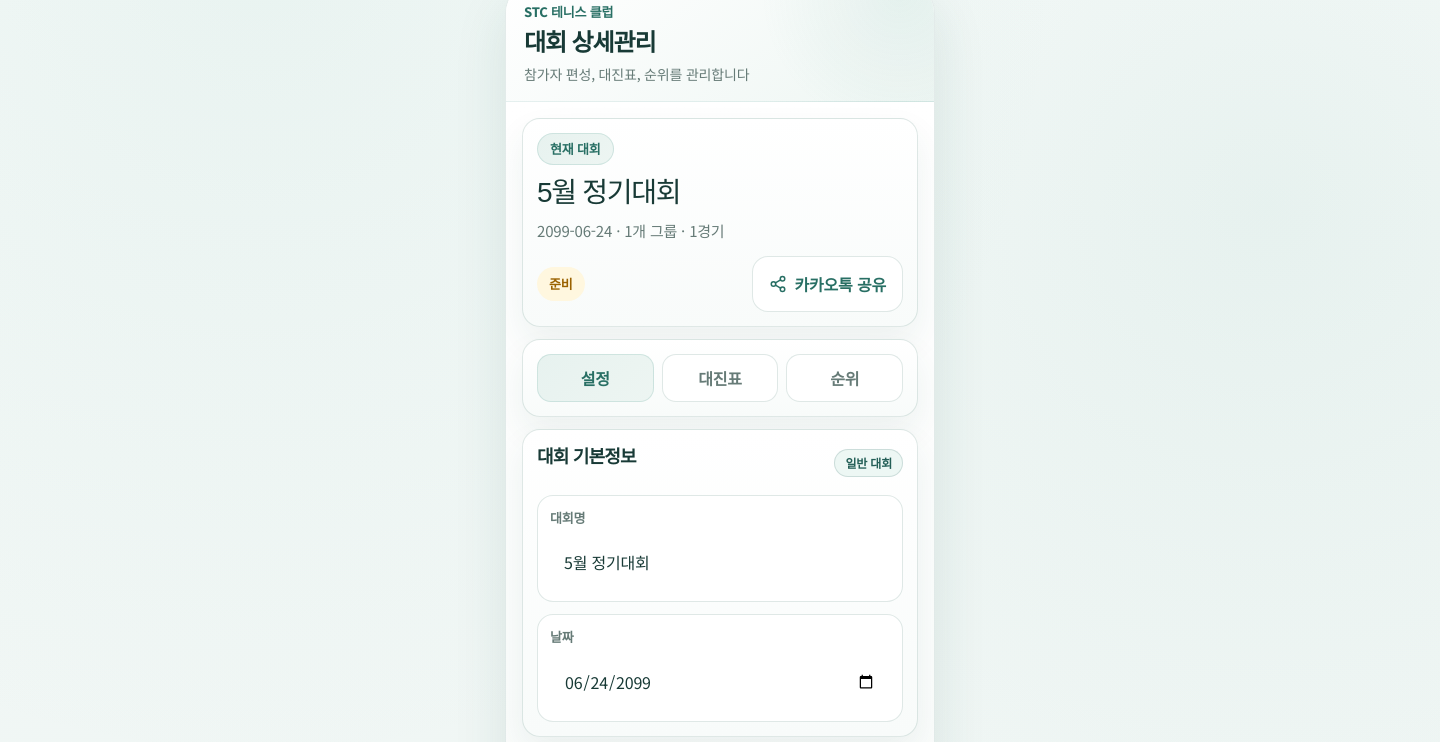
Scenario: TournamentManageClient save timing › saves a completed match only after the input complete button is pressed
This screenshot has width=1440, height=742.
Click the button "대진표".
click(720, 378)  # box [662,354,778,402]
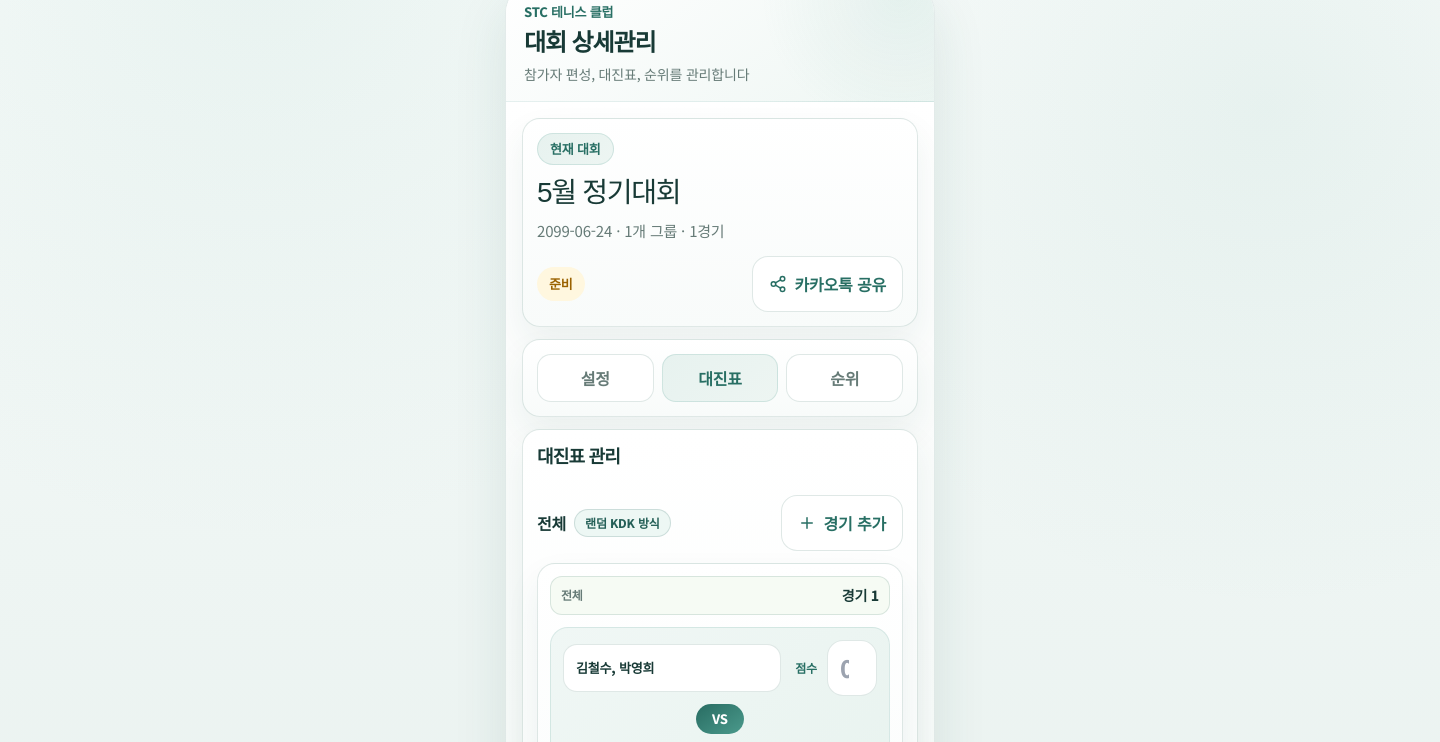
Type "6" into the number field named "위쪽 팀 점수".
click(852, 668); type("6")  # box [827,640,877,696]
(page scrolled)
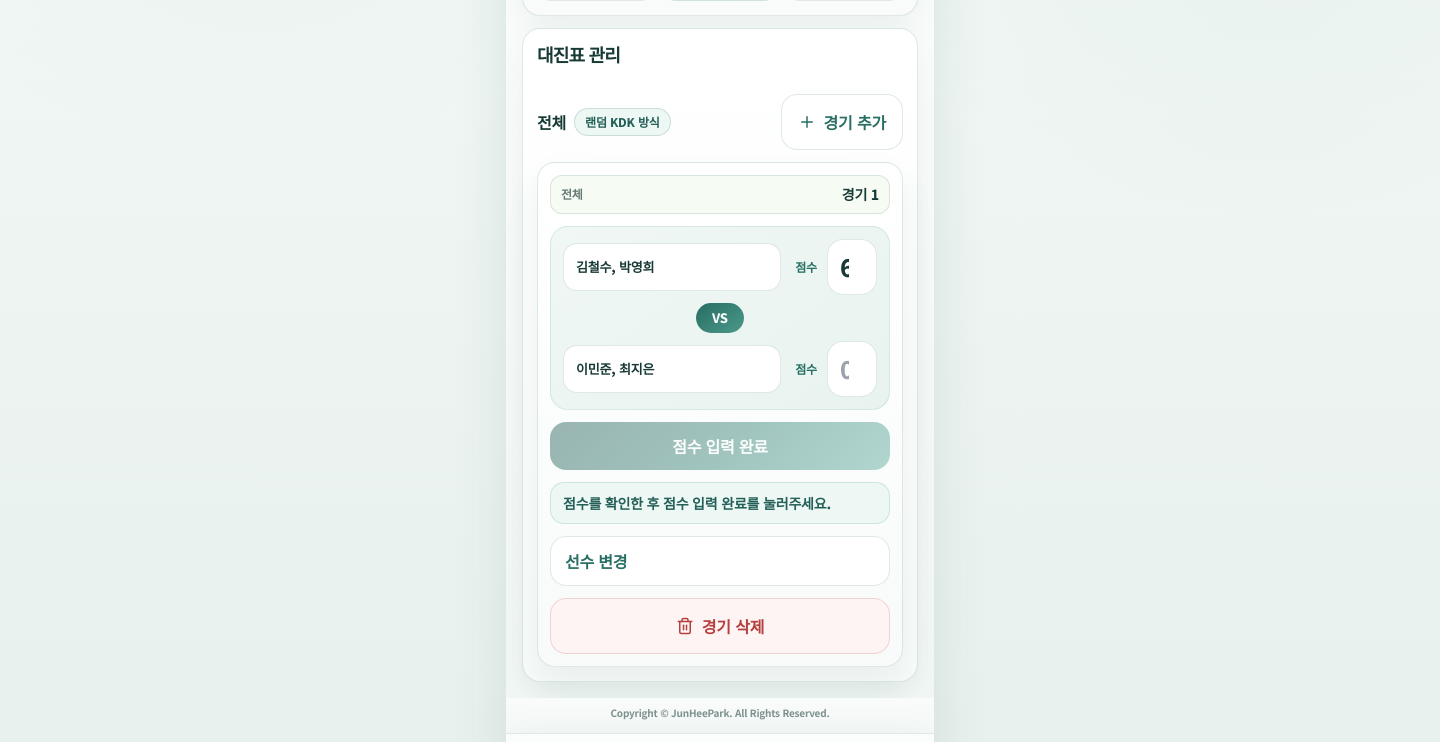
Now the button "점수 입력 완료" is disabled, box [550,422,890,470]
Type "3" into the number field named "아래쪽 팀 점수".
click(852, 369); type("3")  # box [827,341,877,397]
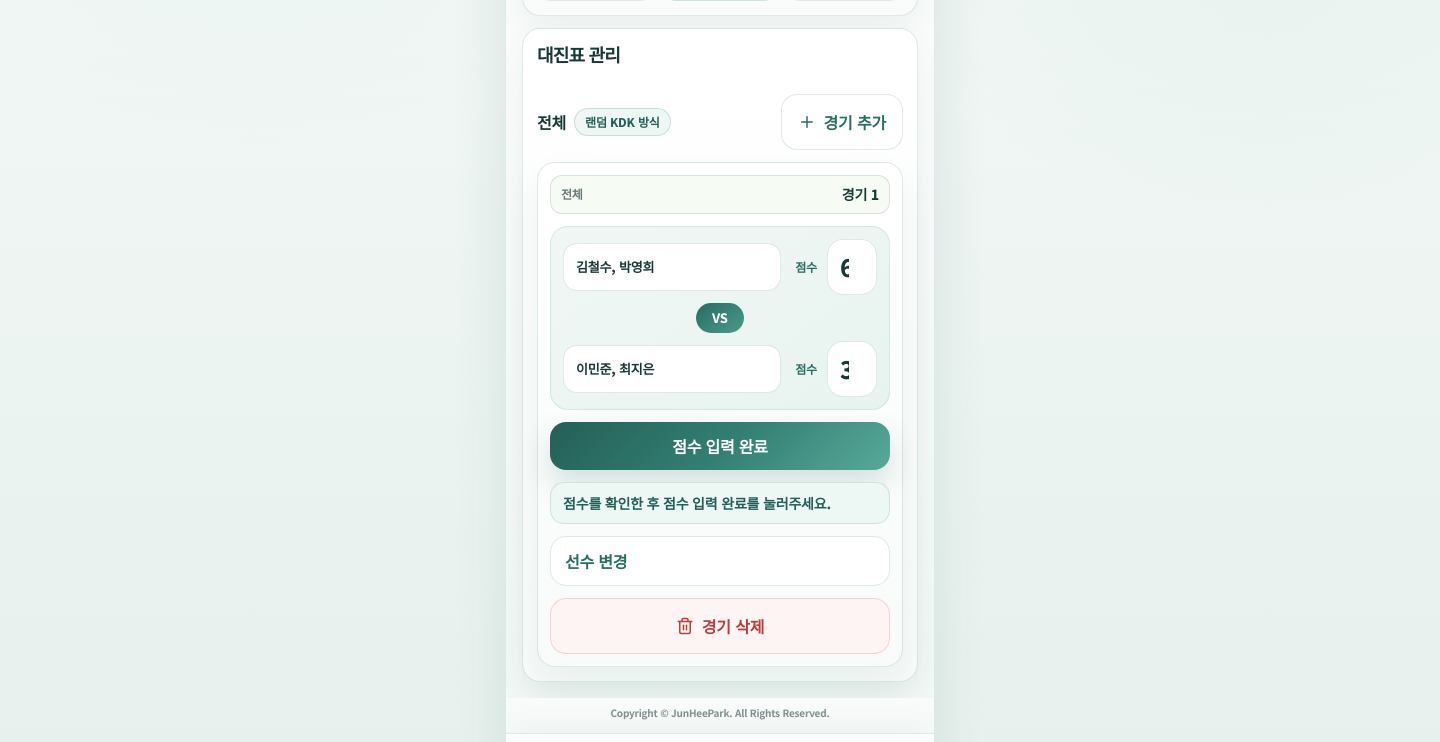
Now the button "점수 입력 완료" is enabled
Click the button "점수 입력 완료".
click(720, 446)  # box [550,422,890,470]
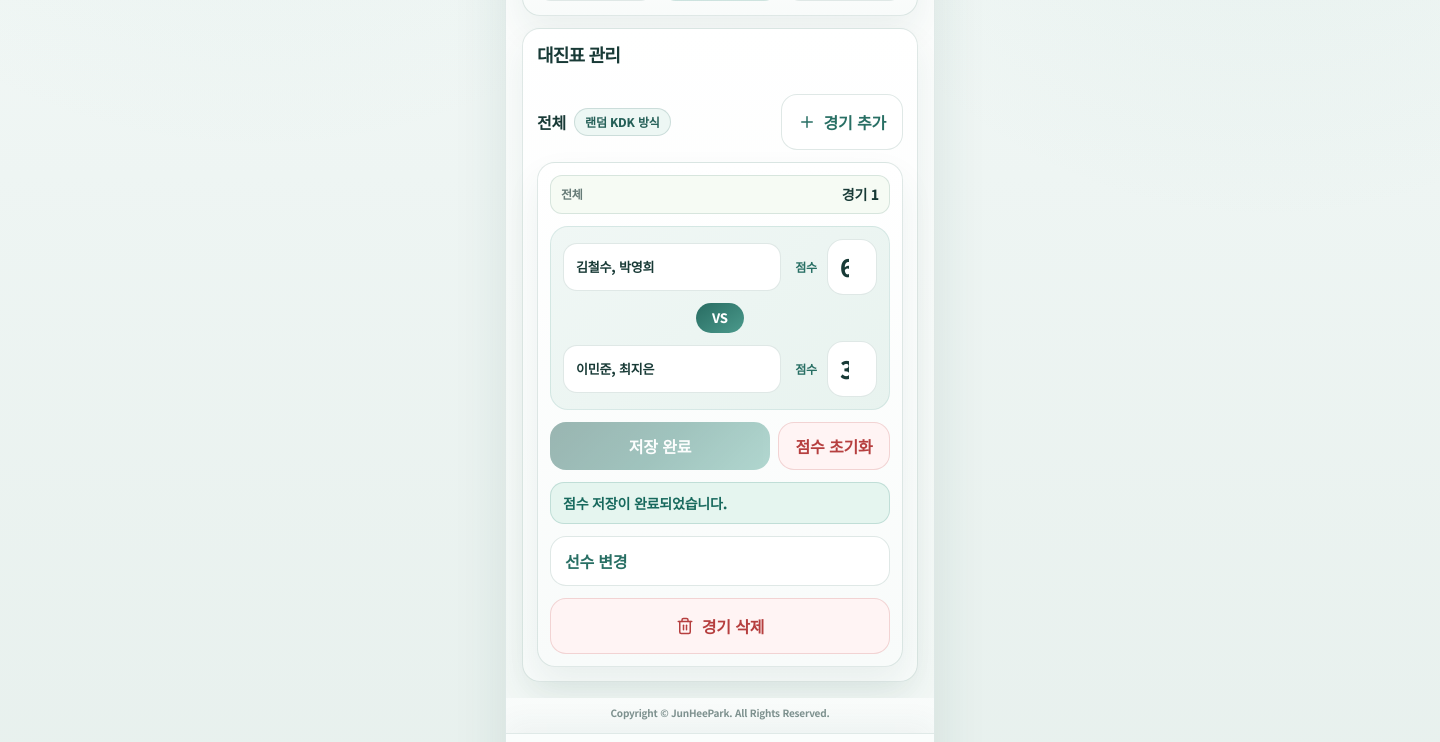
Now the button "저장 완료" is shown, box [550,422,770,470]
